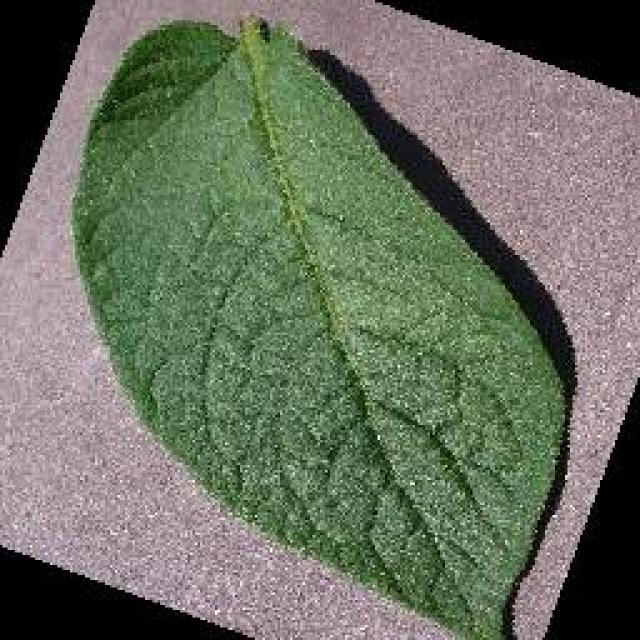Potato___healthy: (66, 12, 570, 638)
